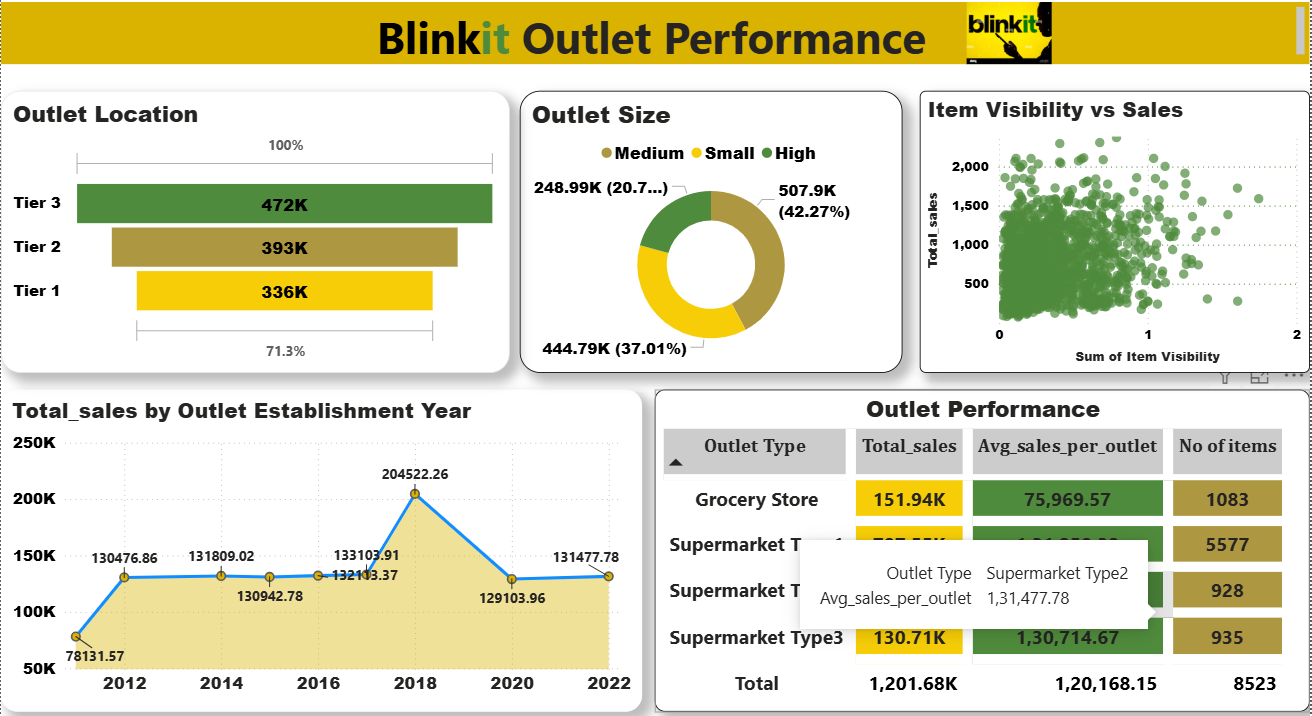

The dashboard page shown, as its layout file describes it:
{"tool":"powerbi","page":{"name":"Outlet Dashboard","canvas":[1280,720],"ordinal":1},"visuals":[{"type":"areaChart","title":"Total_sales by Outlet Establishment Year","fields":{"Category":["Blinkit Grocery Data.Outlet Establishment Year"],"Y":["Blinkit Grocery Data.Total_sales"]},"box":[0,393.8,627.3,315.5],"z":0},{"type":"donutChart","title":" Outlet Size","fields":{"Category":["Blinkit Grocery Data.Outlet Size"],"Y":["Sum(Blinkit Grocery Data.Sales)"]},"box":[507.5,101.5,374.2,276.4],"z":1000},{"type":"funnel","title":"Outlet Location","fields":{"Y":["Sum(Blinkit Grocery Data.Sales)"],"Category":["Blinkit Grocery Data.Outlet Location Type"]},"box":[0,101.5,497.7,276.4],"z":2000},{"type":"pivotTable","title":"Outlet Performance","fields":{"Rows":["Blinkit Grocery Data.Outlet Type"],"Values":["Blinkit Grocery Data.Total_sales","Blinkit Grocery Data.Avg_sales_per_outlet","Blinkit Grocery Data.No of items"]},"box":[639.5,393.8,640.8,315.5],"z":3000},{"type":"scatterChart","title":"Item Visibility vs Sales","fields":{"X":["Sum(Blinkit Grocery Data.Item Visibility)"],"Y":["Blinkit Grocery Data.Total_sales"],"Category":["Blinkit Grocery Data.Item Identifier"]},"box":[898.8,101.5,381.5,276.4],"z":4000},{"type":"textbox","box":[0,14.7,1280.3,61.1],"z":5000},{"type":"image","box":[934.4,14.2,103.8,61.2],"z":6000}]}

Visuals, with their boxes in screenshot pixels (x1, y1, x2, y2):
"Total_sales by Outlet Establishment Year" areaChart: [0, 384, 639, 706]
" Outlet Size" donutChart: [517, 86, 898, 368]
"Outlet Location" funnel: [0, 86, 507, 368]
"Outlet Performance" pivotTable: [652, 384, 1304, 706]
"Item Visibility vs Sales" scatterChart: [916, 86, 1304, 368]
textbox: [0, 0, 1304, 60]
image: [952, 0, 1058, 60]
